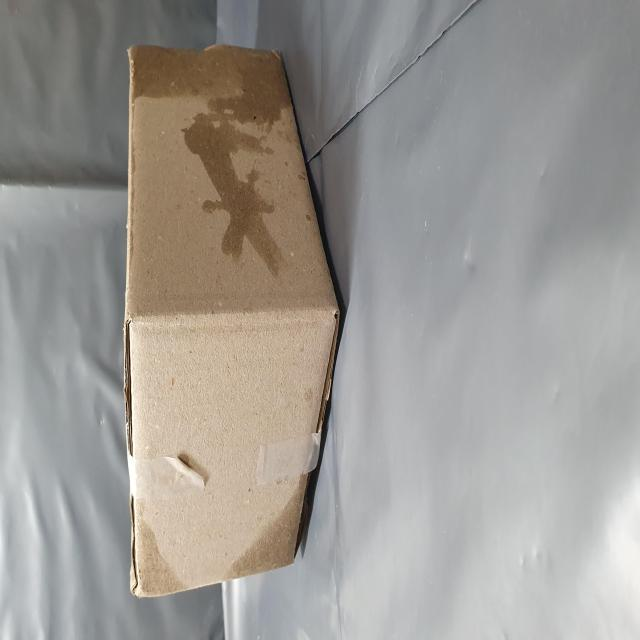wet: (285, 242, 339, 540)
